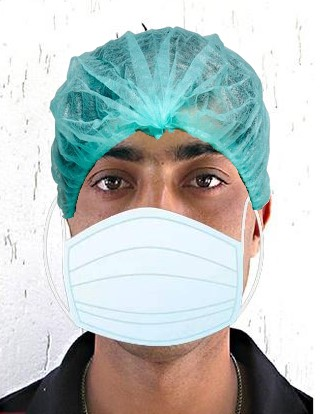with_mask_and_cap: (52, 27, 272, 347)
